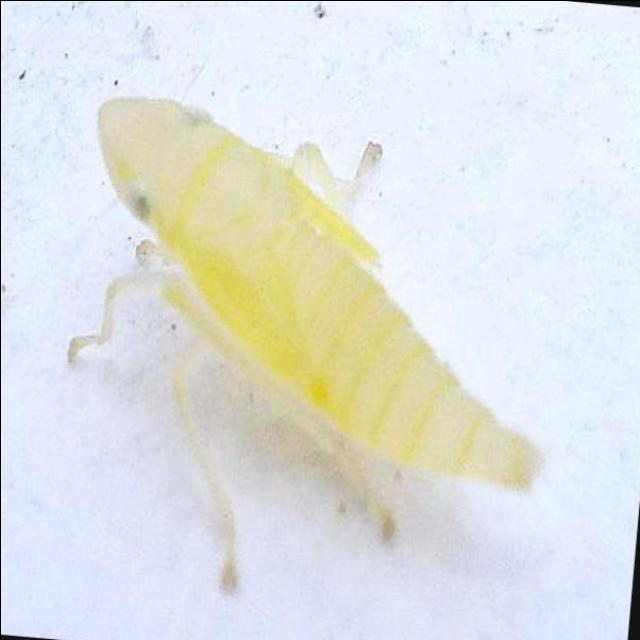green leaf hopper: (67, 98, 539, 590)
